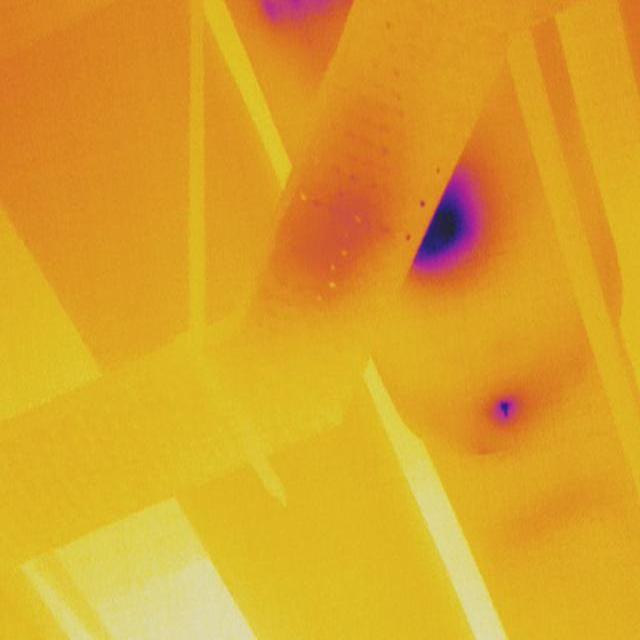leakage: (276, 120, 390, 304), (418, 157, 501, 276), (256, 0, 349, 26), (487, 391, 520, 424)
